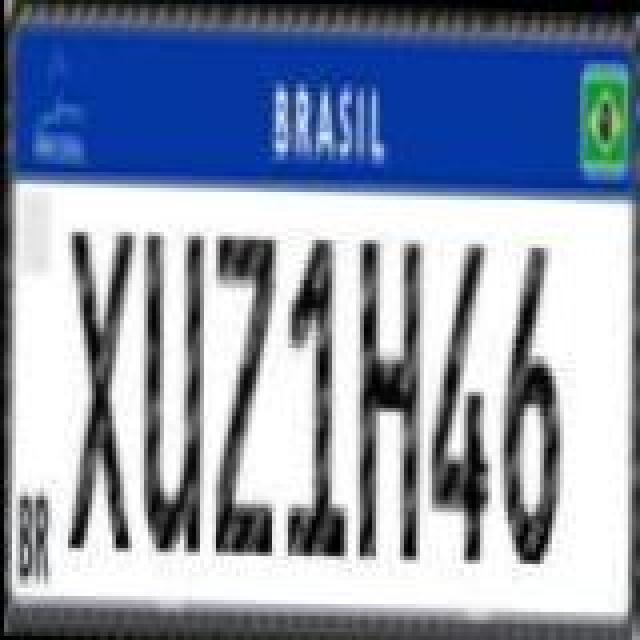1: (282, 232, 350, 560)
4: (426, 234, 494, 566)
6: (494, 236, 562, 568)
H: (358, 234, 426, 562)
U: (138, 228, 206, 556)
X: (64, 224, 136, 556)
Z: (212, 228, 276, 556)
